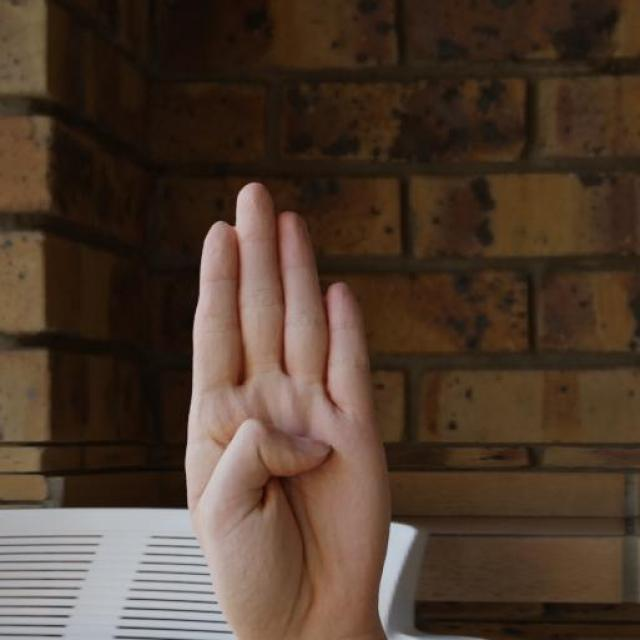B: (184, 179, 400, 639)
